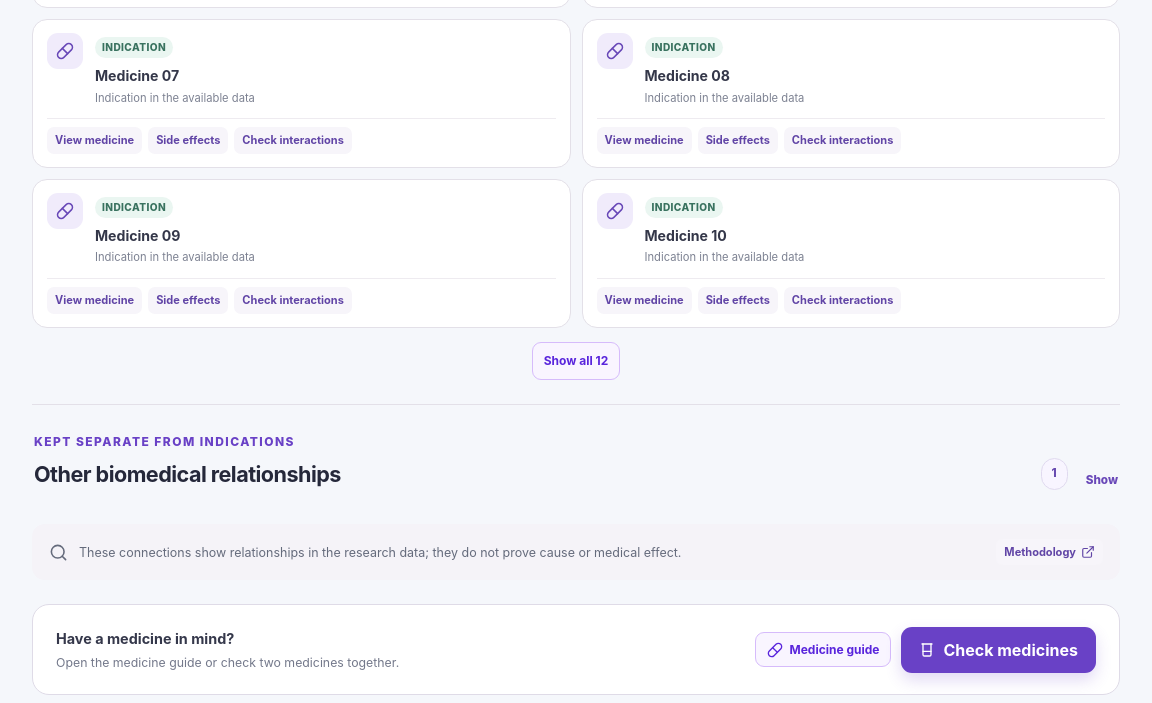
Test case: DiseaseGuide › shows a deterministic subset before allowing all indication medicines
(page scrolled)
Check: the heading "Medicine 10" is shown, box [644, 227, 727, 244]
Check: the text "Medicine 11" is not shown
Step 1. Click the button "Show all 12" → coordinates (576, 360), box [532, 342, 620, 380]
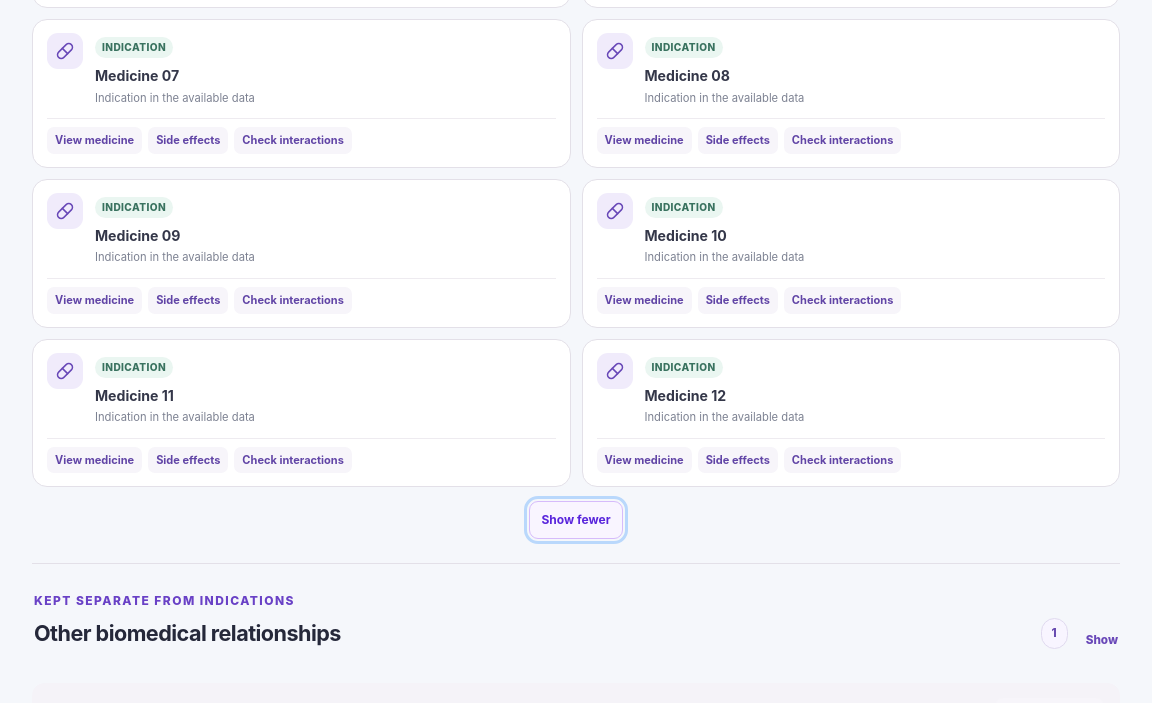
Check: the heading "Medicine 12" is shown, box [644, 387, 726, 404]
Step 2. Click the button "Show fewer" → coordinates (576, 520), box [529, 501, 622, 539]
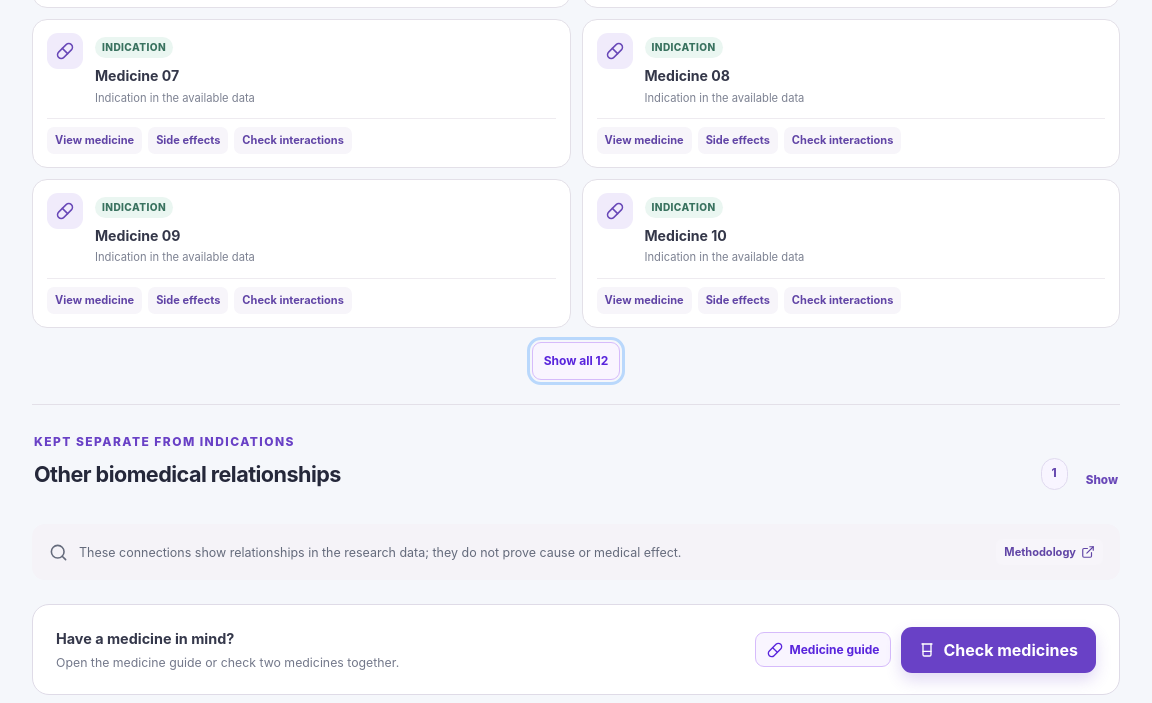
Check: the heading "Medicine 11" is gone
